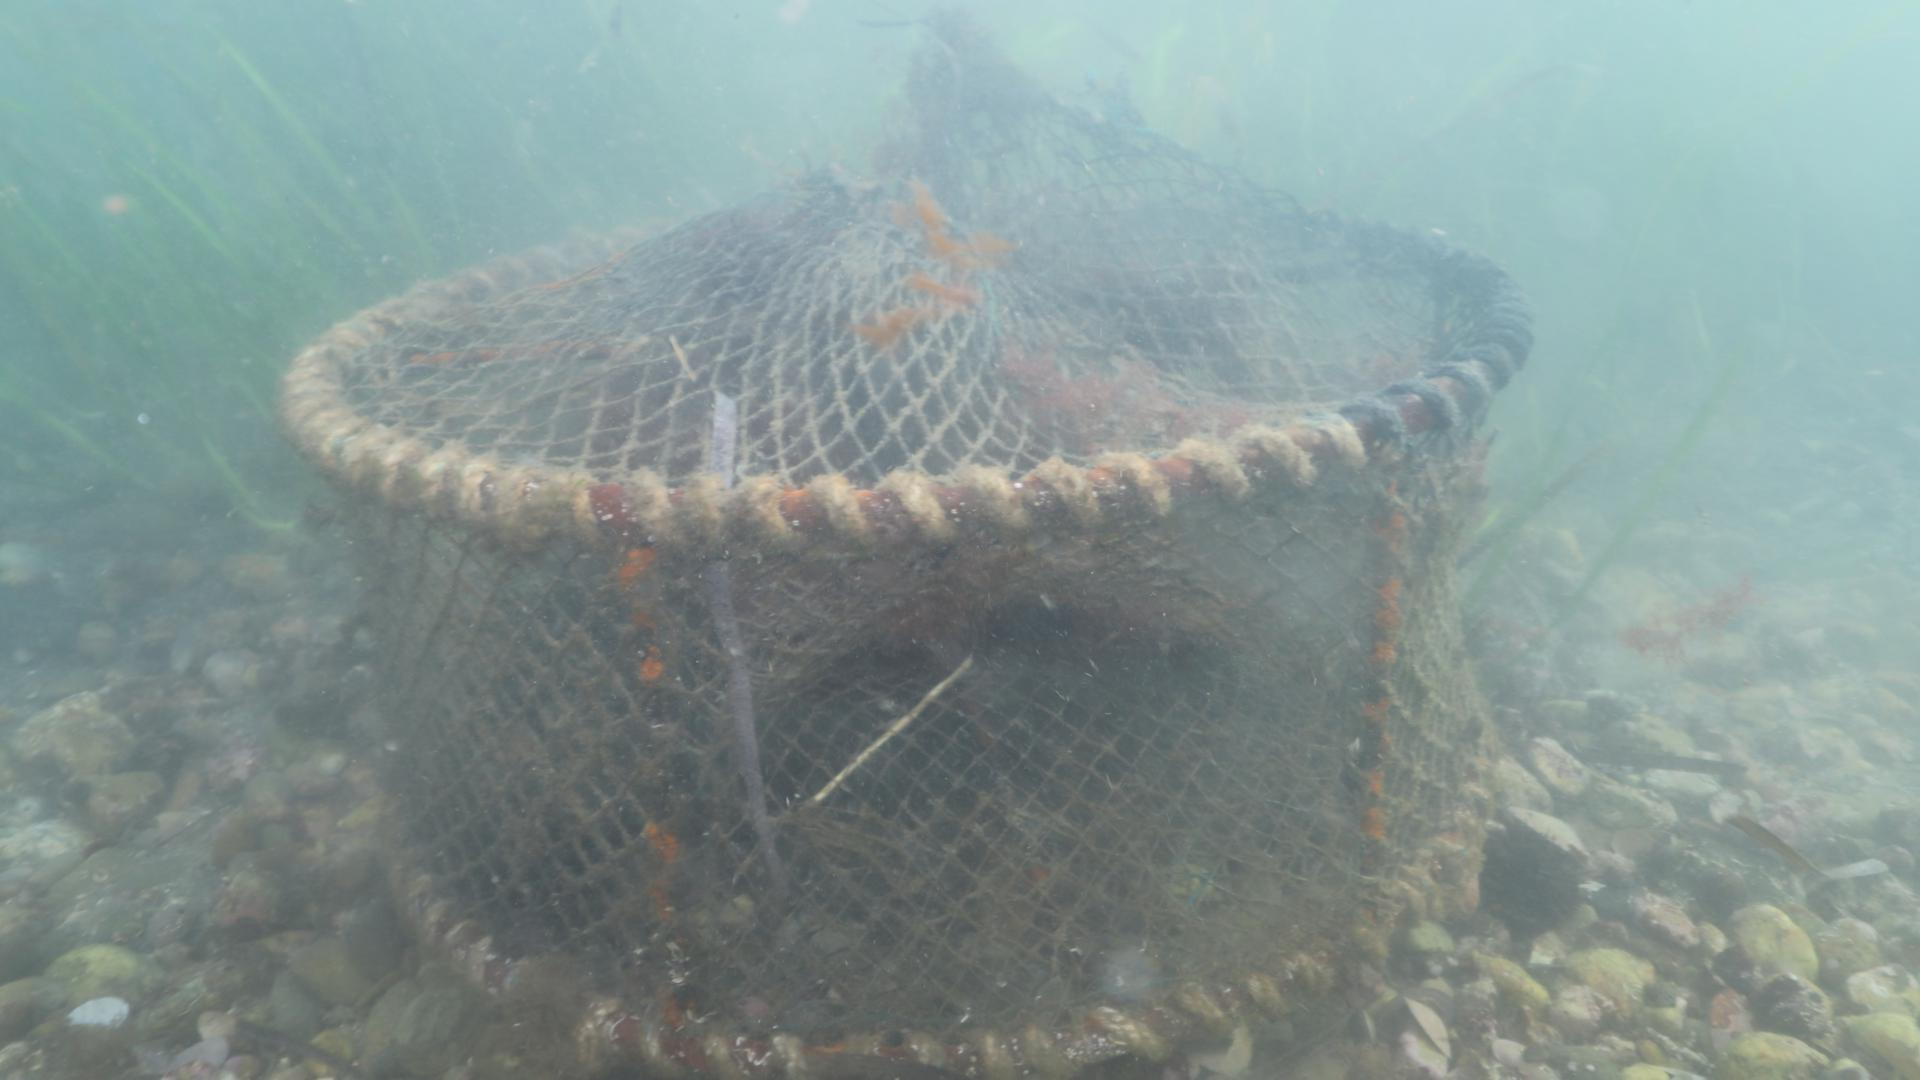circular fish trap: (277, 0, 1538, 1080)
